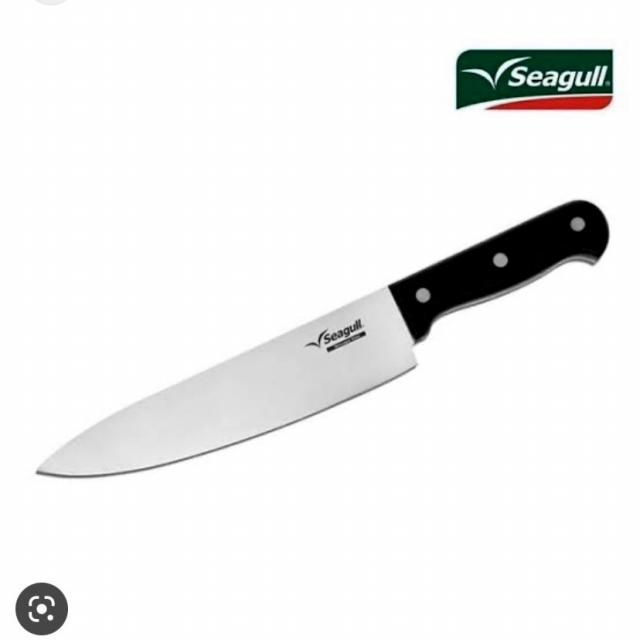knife: (20, 143, 631, 501)
